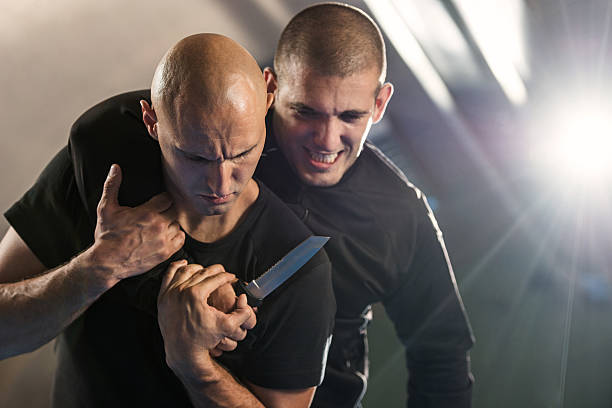knife: (234, 235, 332, 308)
